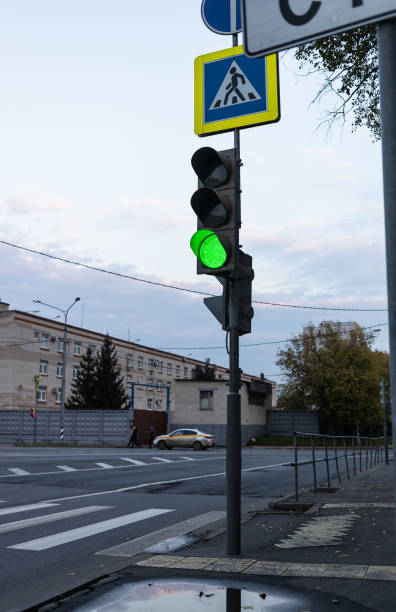trafficlight: (185, 142, 240, 281)
